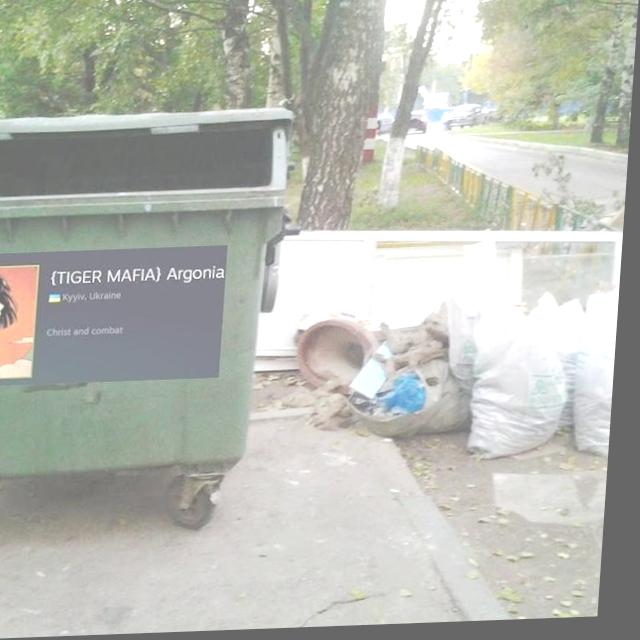Trash_Can_Empty: (0, 107, 297, 485)
